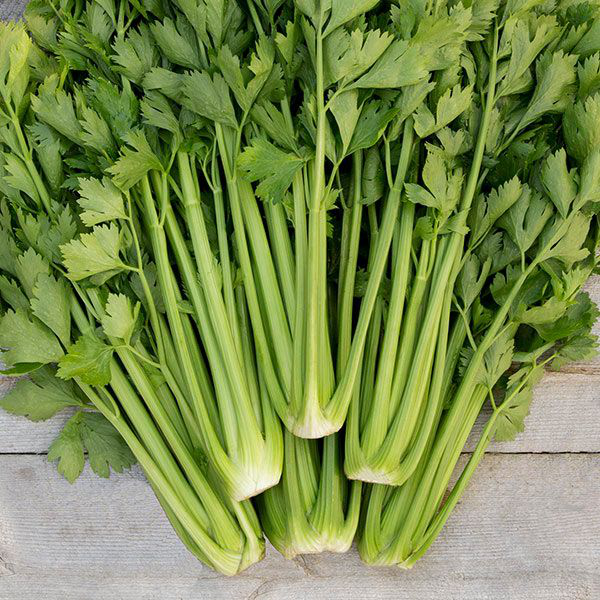Seledri: (30, 21, 578, 583)
